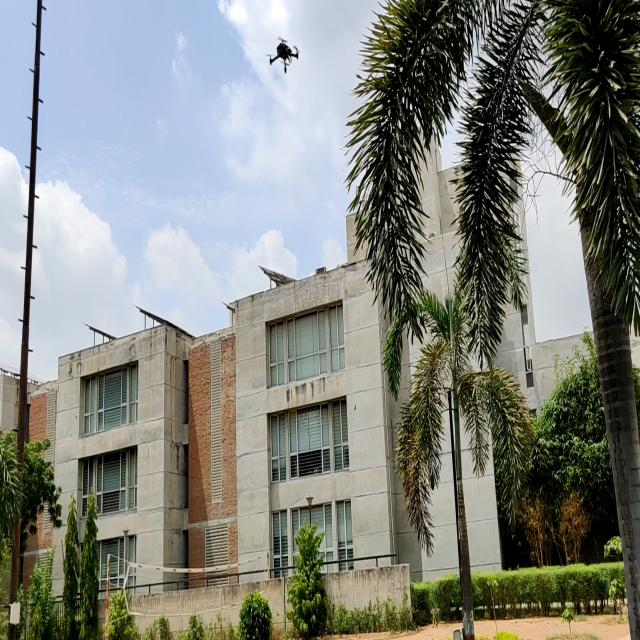drone: (259, 29, 314, 86)
